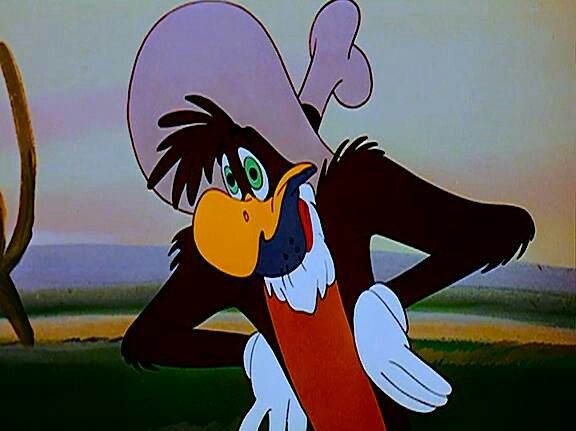urubu: (73, 21, 543, 431)
